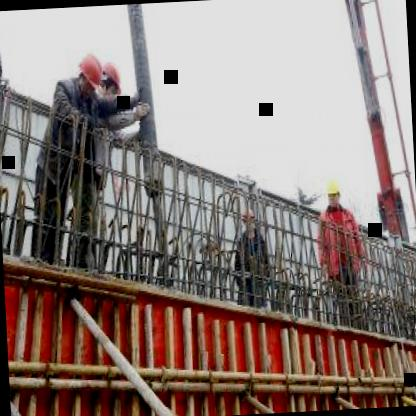helmet: (95, 56, 124, 104), (74, 52, 104, 98), (322, 172, 346, 212)
